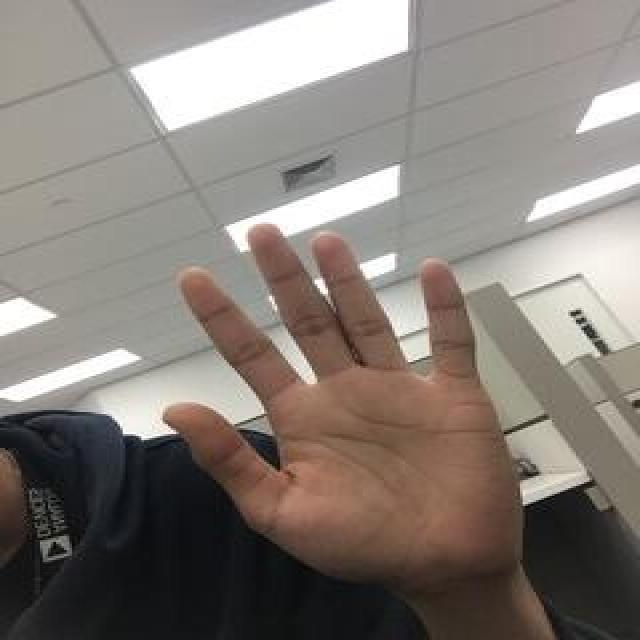hand: (160, 220, 526, 590)
